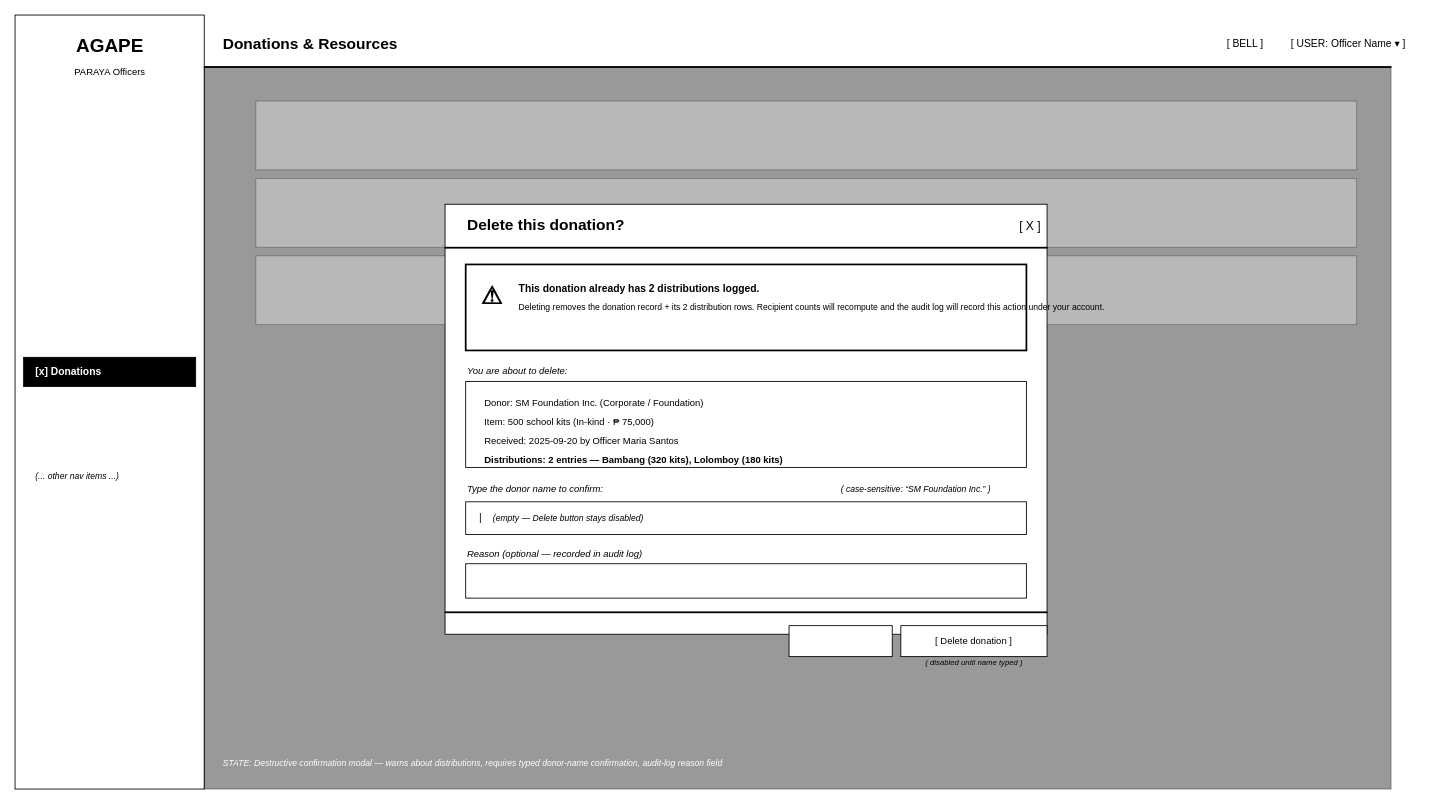
Image size: 1441x804. Some labels were removed from this diagram. Here are the shapes that lost their labels. From the top down, the centre of each, then its label:
(745,580): e.g. duplicate entry, wrong donor selected, returned by donor
(840,641): [ Cancel ]
